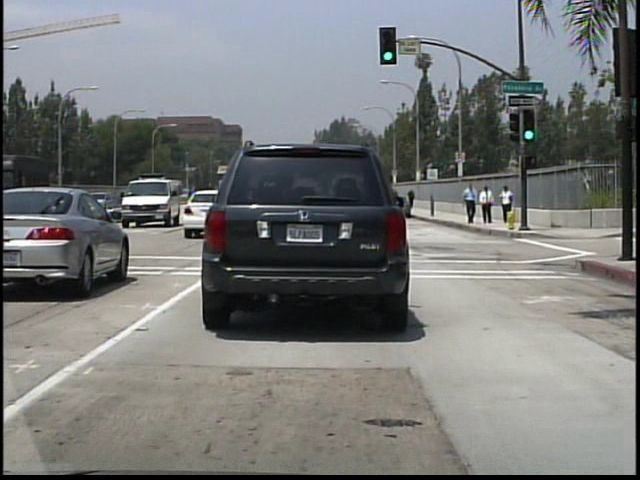person: (461, 180, 478, 226), (479, 185, 495, 224), (500, 184, 516, 213), (409, 188, 417, 207)
